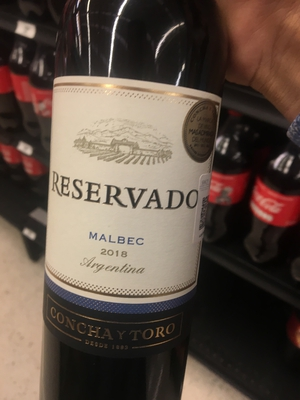reservado malbec: (38, 8, 235, 399)
